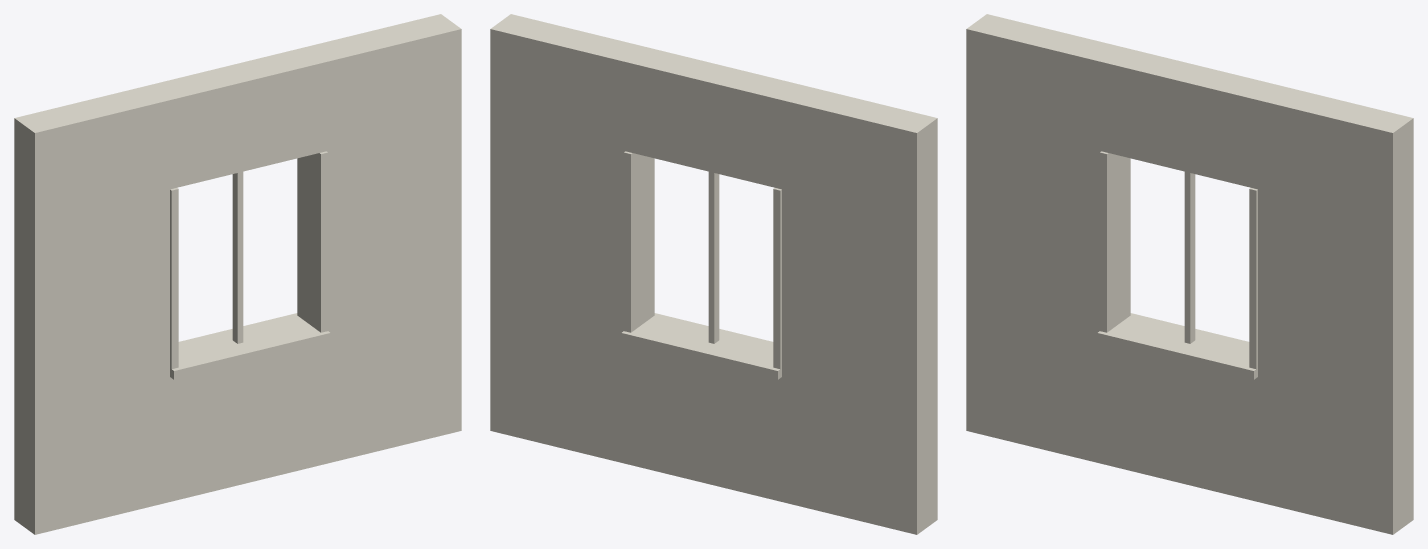
Rendered from GK_Wall_Window_Clapboard_01.glb.
3 views of the same model, side by side, from view 1: azimuth 30°, elevation 25°; view 2: azimuth 150°, elevation 25°; view 3: azimuth 330°, elevation 25° (orthographic).
Visible parts, largest first — view 1: GK_Wall_Window_Clapboard_01; view 2: GK_Wall_Window_Clapboard_01; view 3: GK_Wall_Window_Clapboard_01.
Boxes of the visible parts, x1,y1,x2,y2 form: GK_Wall_Window_Clapboard_01: [14, 14, 461, 534]; GK_Wall_Window_Clapboard_01: [490, 14, 937, 534]; GK_Wall_Window_Clapboard_01: [966, 14, 1413, 534].
Size of the model in its own units: 3 by 2.7 by 0.35.
1 material, 1 textured.
